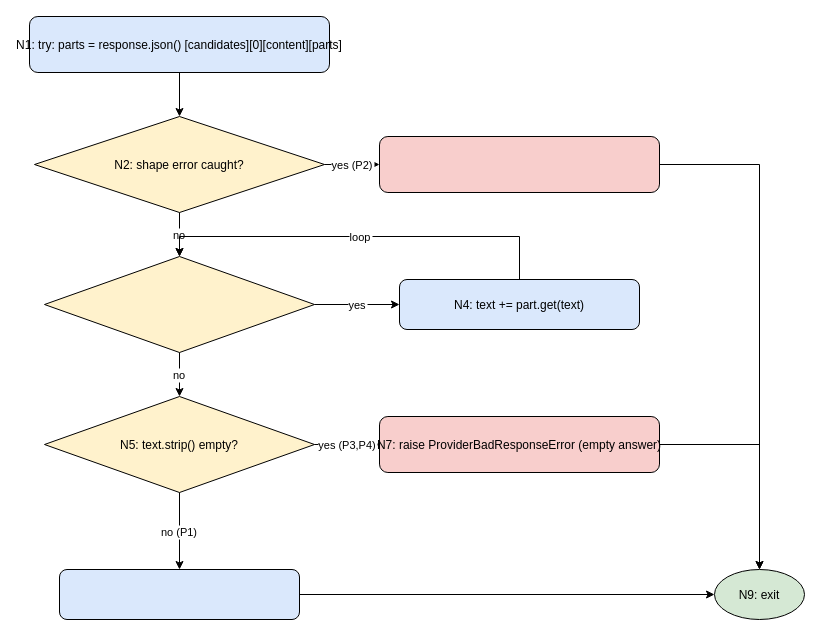
Image size: 821x636. Some labels were removed from this diagram. The centre of each missing label's shape, as x and y in pixels:
"N3: more parts to join?" goes at point (179, 304).
"N6: raise ProviderBadResponseError (unexpected shape)" goes at point (519, 164).
"N8: return text" goes at point (179, 594).
